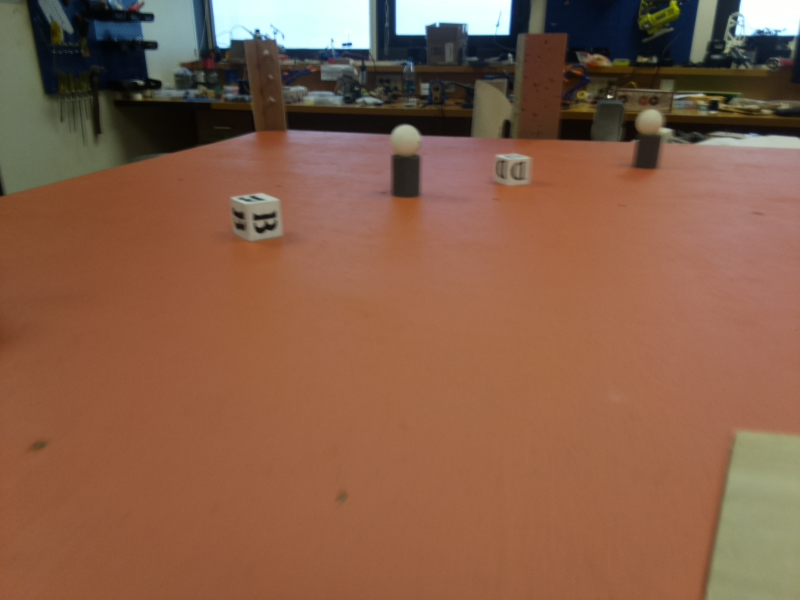blockB: (233, 189, 284, 243)
blockD: (493, 150, 529, 191)
corner: (250, 40, 278, 132)
obstacle: (390, 123, 423, 200), (632, 107, 668, 172)
